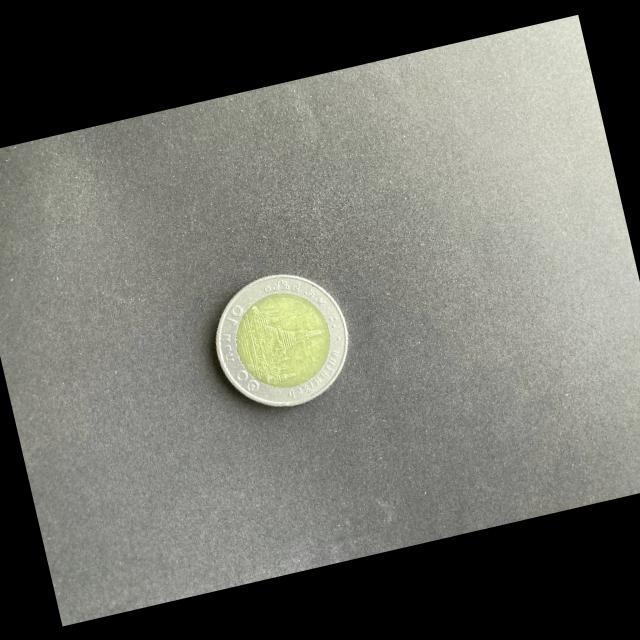10 Bath: (211, 270, 354, 412)
